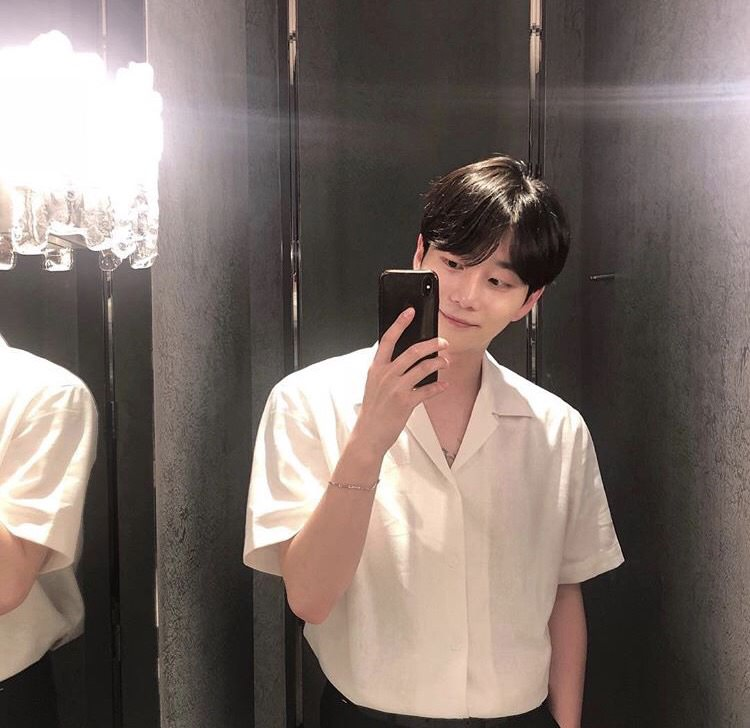people: (358, 158, 575, 728)
